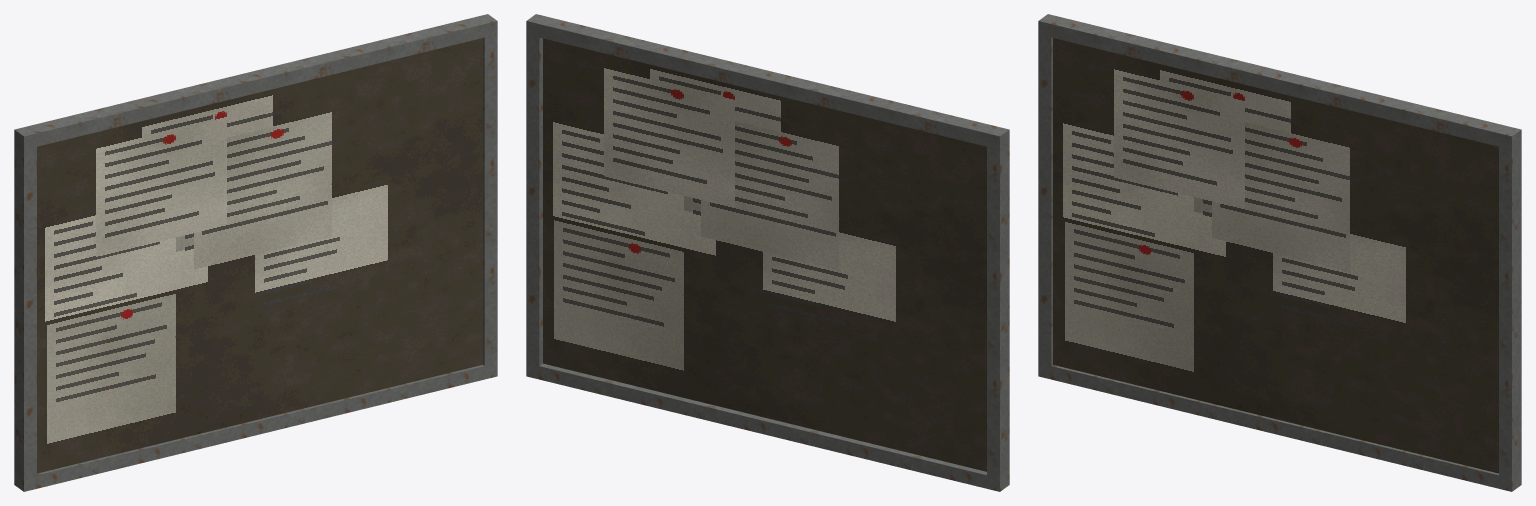
File: notice_board.glb
3 renders of one model, left to right at view 1: azimuth 30°, elevation 25°; view 2: azimuth 150°, elevation 25°; view 3: azimuth 330°, elevation 25°, orthographic.
Visible parts, largest first — view 1: notice_board; view 2: notice_board; view 3: notice_board.
Boxes of the visible parts, x1,y1,x2,y2 form: notice_board: (14, 14, 497, 491); notice_board: (526, 14, 1009, 491); notice_board: (1038, 14, 1521, 491).
Size of the model in its own units: 0.92 by 0.66 by 0.032.
Materials: 2 (2 with a texture image).
